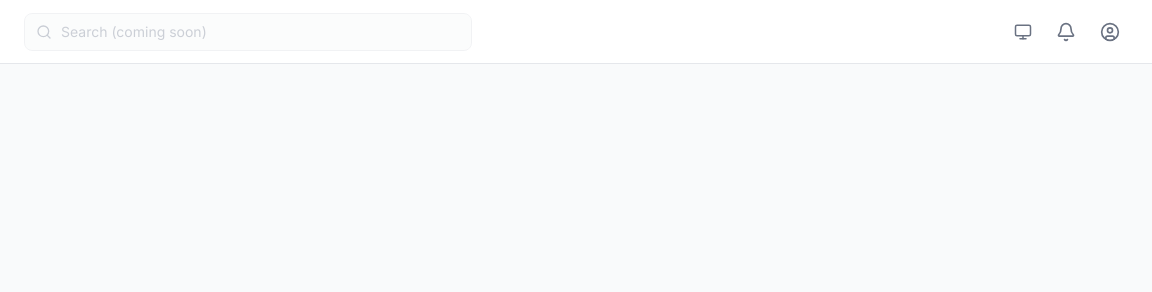
Test: Admin Header user menu › closes dropdown when clicking user menu button again
The image size is (1152, 292).
Click the button with test id "user-menu-button" at (1110, 32), box [1092, 14, 1128, 50]
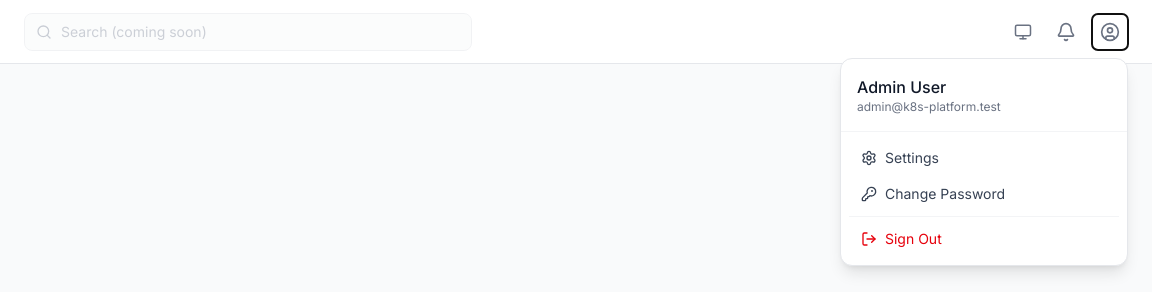
expect the element with test id "user-menu-dropdown" is shown: met, box [840, 58, 1128, 266]
Click the button with test id "user-menu-button" at (1110, 32), box [1092, 14, 1128, 50]
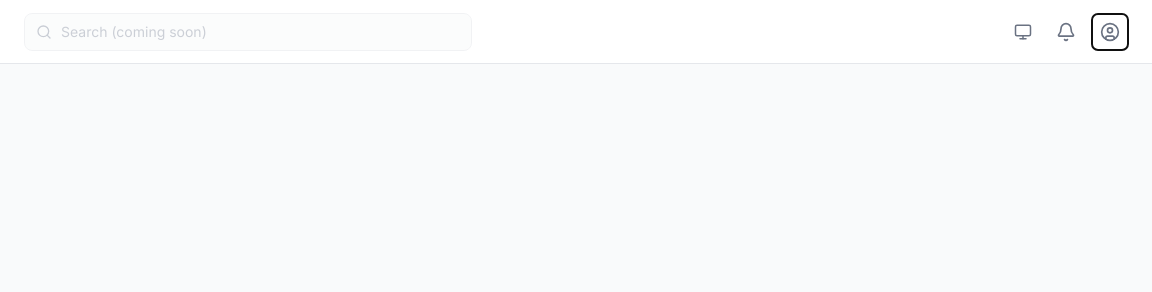
expect the element with test id "user-menu-dropdown" is gone: met
